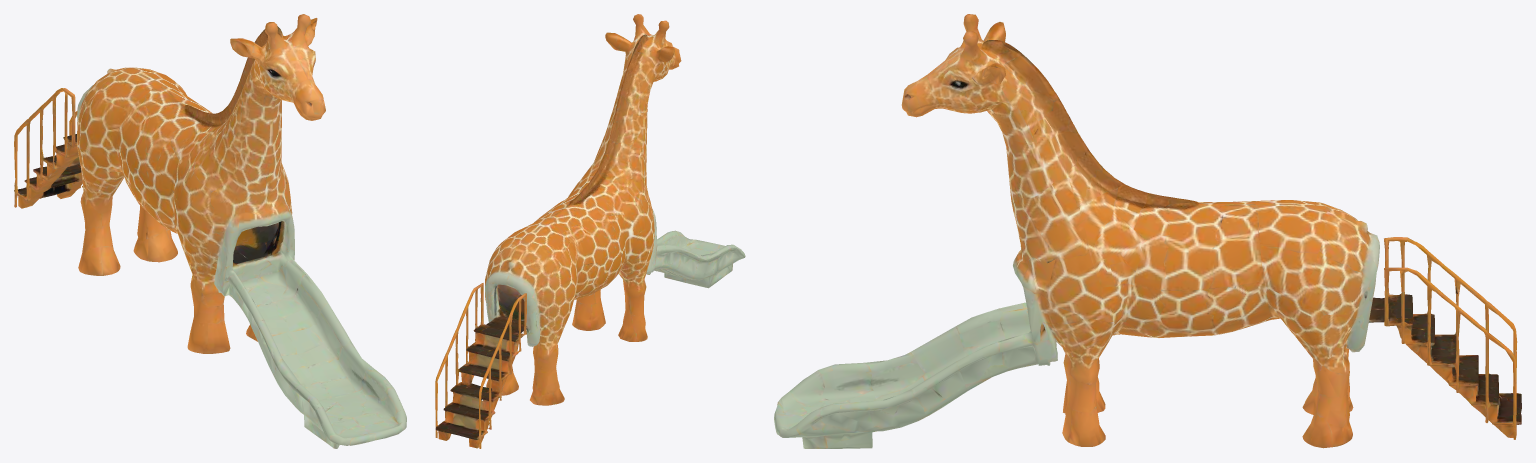
Rendered from slide.glb.
3 renders of one model, left to right at view 1: azimuth 30°, elevation 25°; view 2: azimuth 150°, elevation 25°; view 3: azimuth 270°, elevation 25°, orthographic. The views are drawn at different scales.
Visible parts, largest first — view 1: Object_4; view 2: Object_4; view 3: Object_4.
Boxes of the visible parts, x1,y1,x2,y2 form: Object_4: (14,14,406,448); Object_4: (435,14,745,448); Object_4: (774,14,1521,448).
Size of the model in its own units: 0.3435 by 1.15 by 1.9.
1 material, 1 textured.
